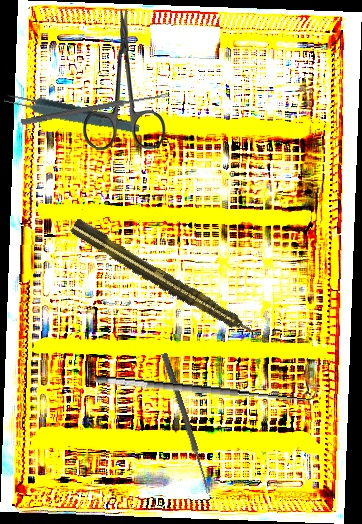Handpiece: (68, 216, 264, 345)
Hook Surgical: (94, 357, 319, 409)
Iris Scissors: (82, 8, 169, 151)
Surgical Spoon: (160, 352, 213, 495), (20, 90, 171, 127)
Tissue Forceps: (2, 88, 142, 138)
